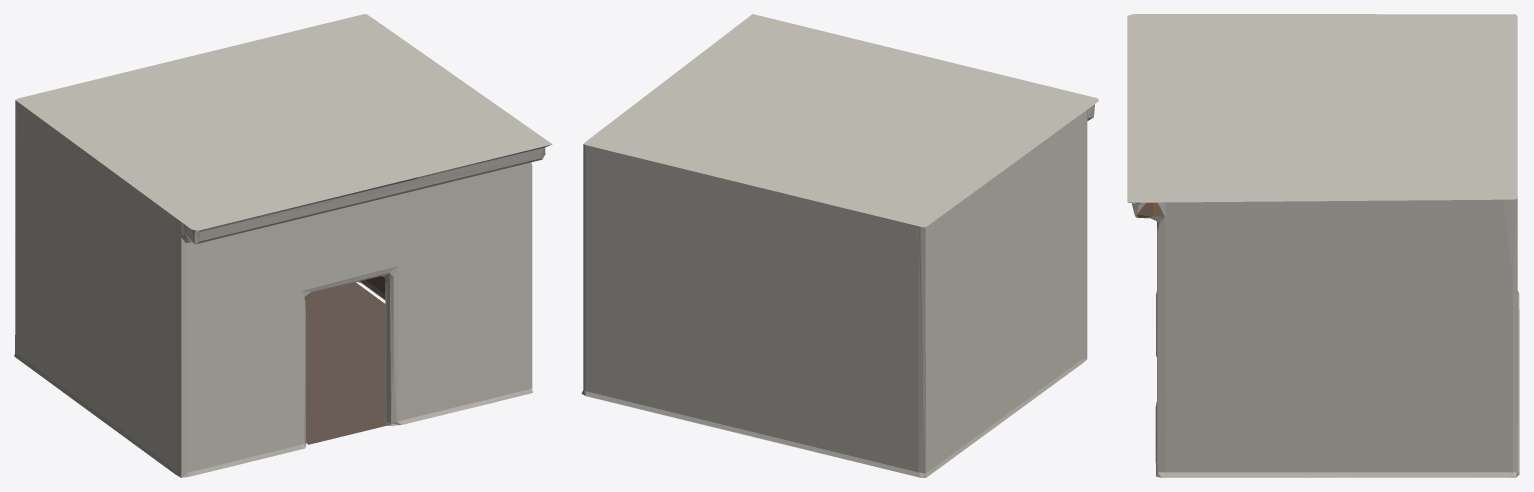
File: etape-1.glb
3 renders of one model, left to right at view 1: azimuth 30°, elevation 25°; view 2: azimuth 150°, elevation 25°; view 3: azimuth 270°, elevation 25°, orthographic. The views are drawn at different scales.
Parts seen in each view (by area): view 1: geometry_0; view 2: geometry_0; view 3: geometry_0.
Part boxes in pixels (box(x1,y1,x2,y2)): geometry_0: box(14, 14, 552, 477); geometry_0: box(581, 14, 1098, 477); geometry_0: box(1127, 14, 1519, 477).
Bounding box in the file's own units: 0.6756 × 0.4627 × 0.5934.
